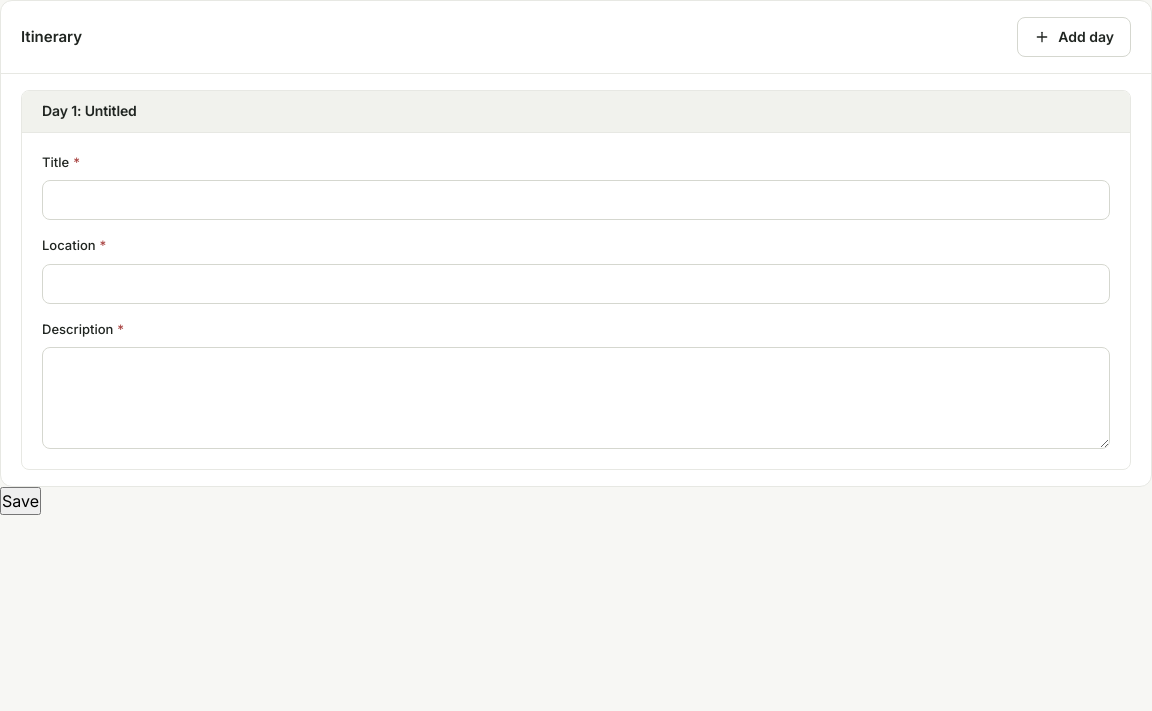
it: Itinerary › hides Remove again once only one day is left
Click the button "Add day". click: [1074, 37]
box: [1017,17,1131,57]
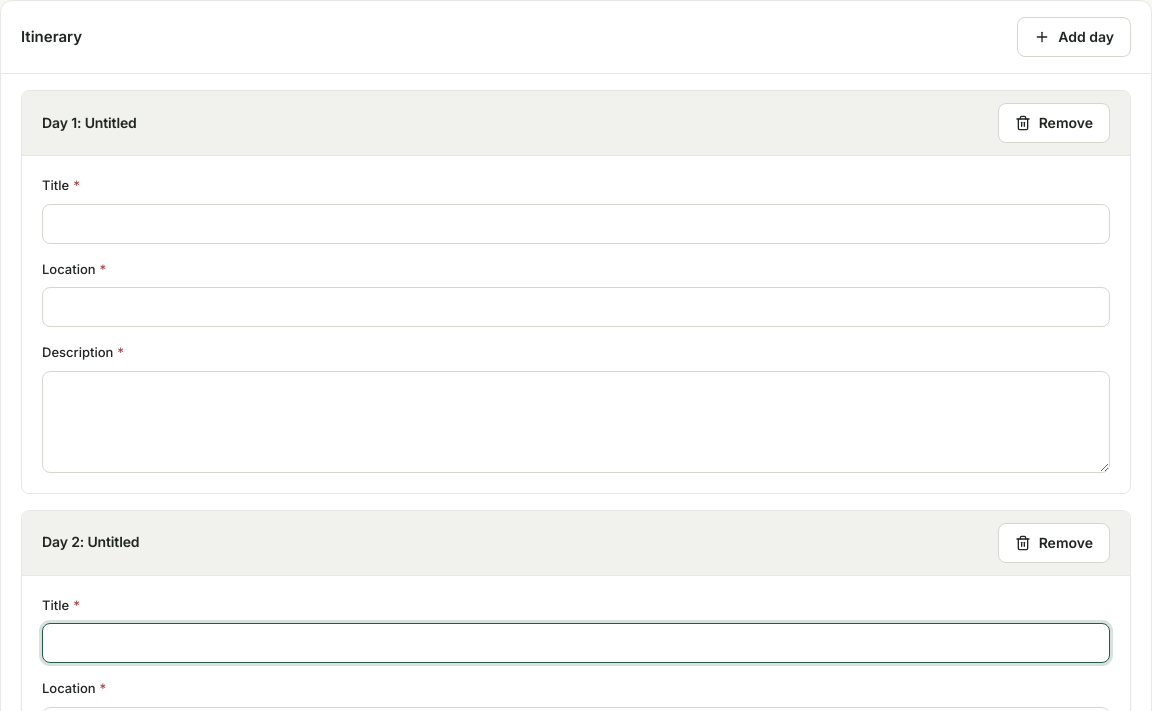
Expected: the number of buttons "Remove" is 2
Click the 1st button "Remove". click: [1054, 123]
box: [998,103,1110,143]
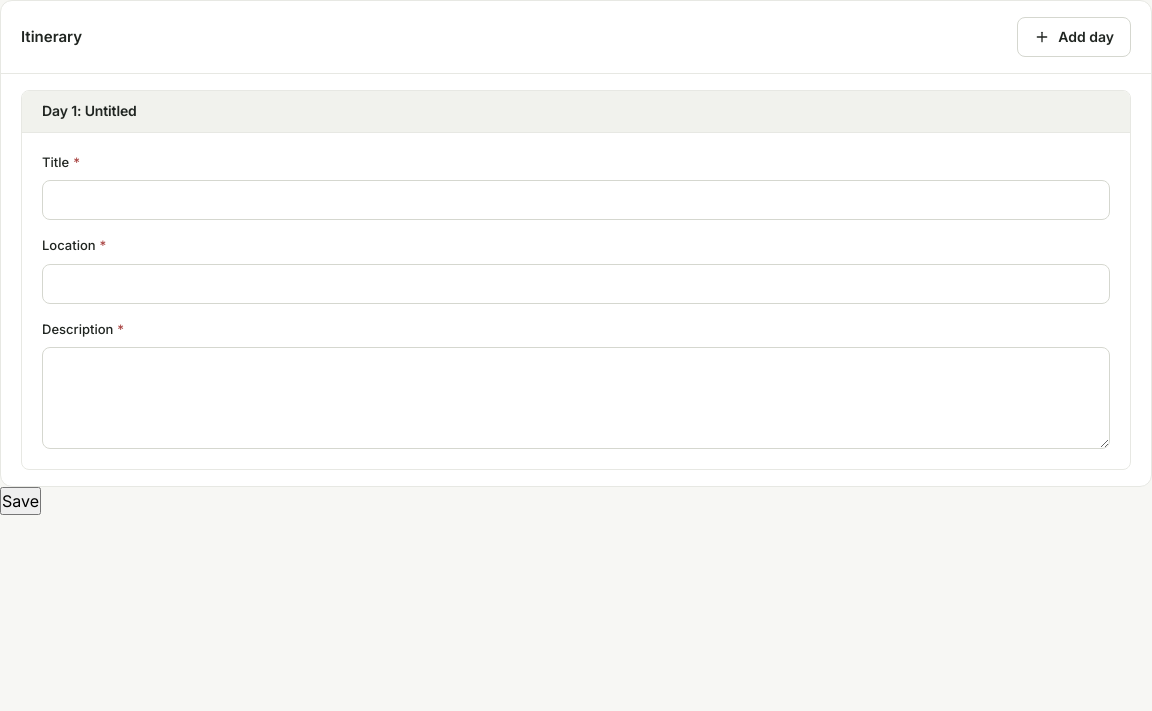
Expected: the button "Remove" is gone
